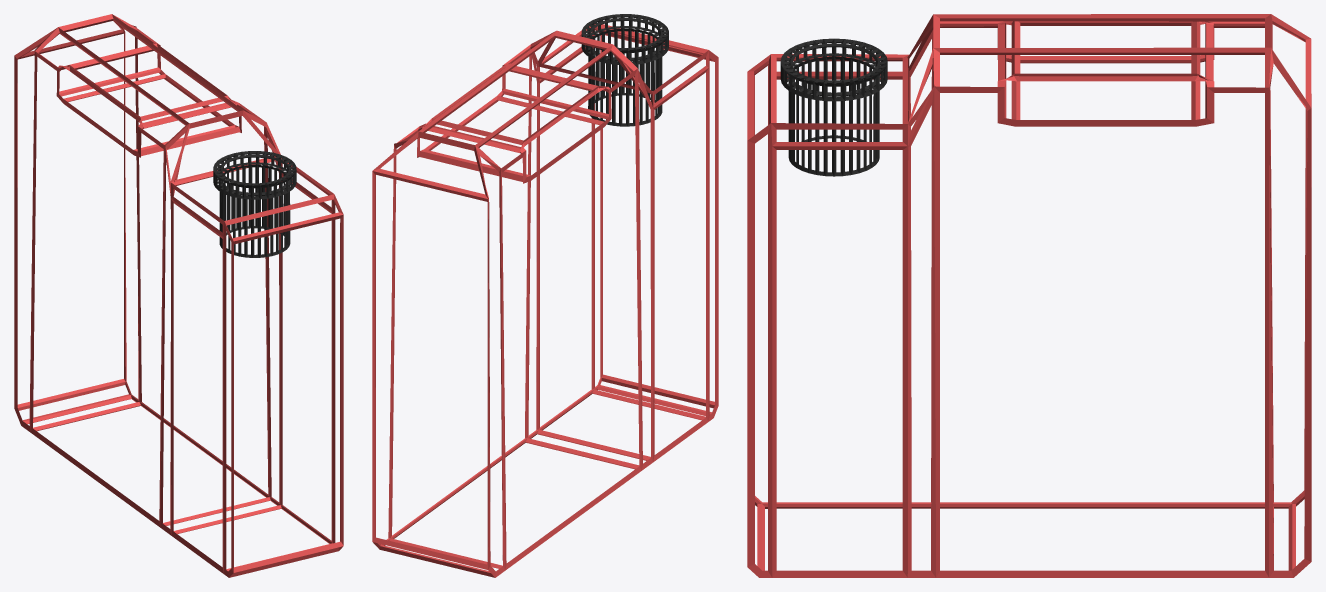
File: gascan_o.glb
The picture shows the model from 3 angles, left to right: view 1: azimuth 30°, elevation 25°; view 2: azimuth 150°, elevation 25°; view 3: azimuth 270°, elevation 25°; orthographic projection. The views are drawn at different scales.
Parts seen in each view (by area): view 1: Cube.005, Cylinder.003; view 2: Cube.005, Cylinder.003; view 3: Cube.005, Cylinder.003.
Boxes of the visible parts, box(x1,y1,x2,y2) form: Cube.005: box(14, 14, 343, 577); Cylinder.003: box(213, 151, 296, 257); Cube.005: box(372, 24, 718, 577); Cylinder.003: box(581, 14, 668, 126); Cube.005: box(747, 14, 1311, 577); Cylinder.003: box(780, 38, 887, 176).
Bounding box in the file's own units: 0.5893 × 2.03 × 2.02.
